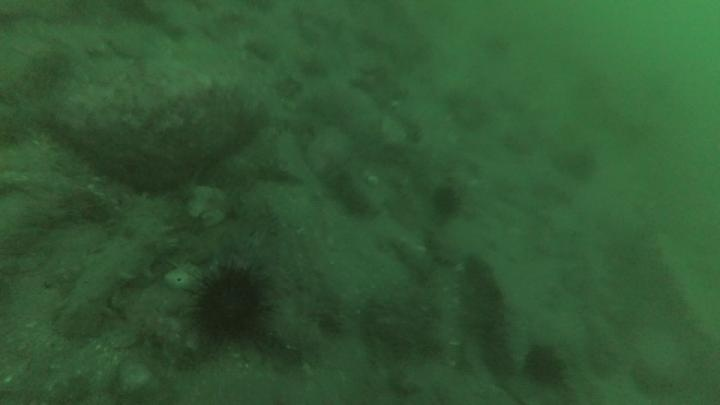echinus: (187, 261, 272, 347), (522, 343, 568, 388), (428, 183, 463, 220)
holothurian: (51, 192, 178, 338)
